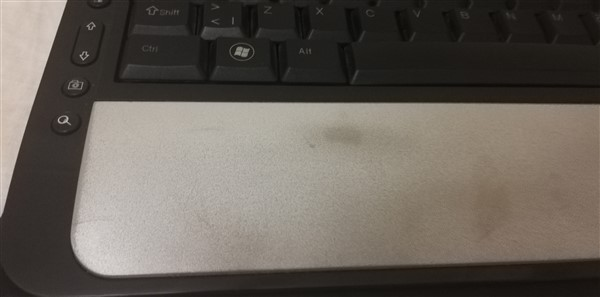klavye: (7, 1, 597, 294)
